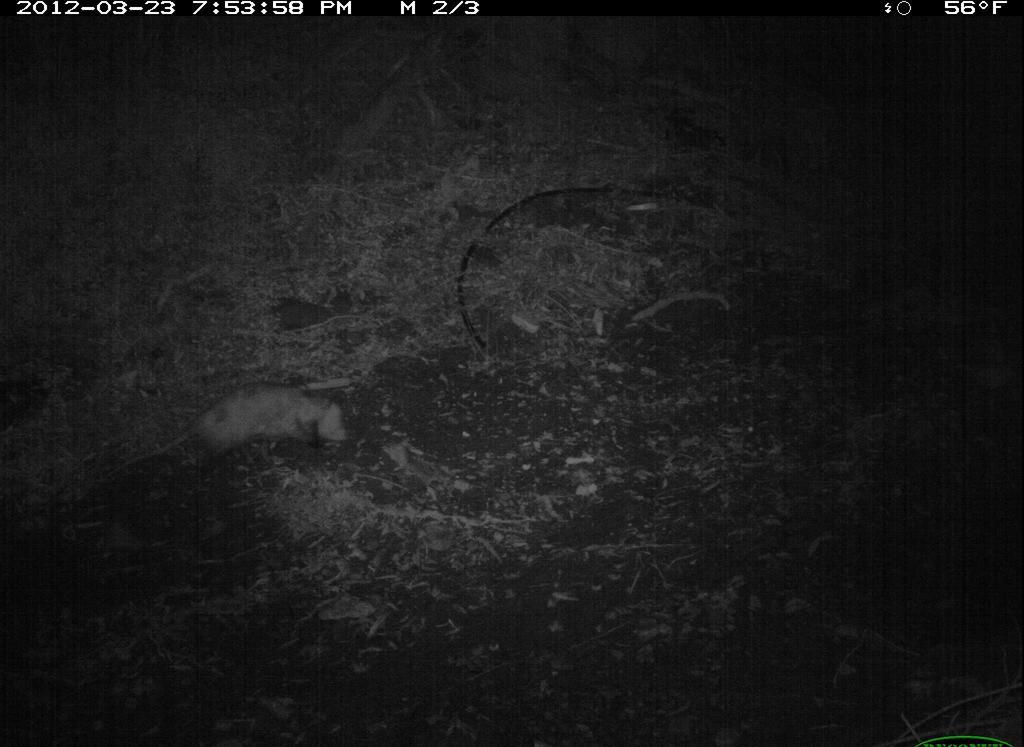opossum: (158, 379, 350, 479)
